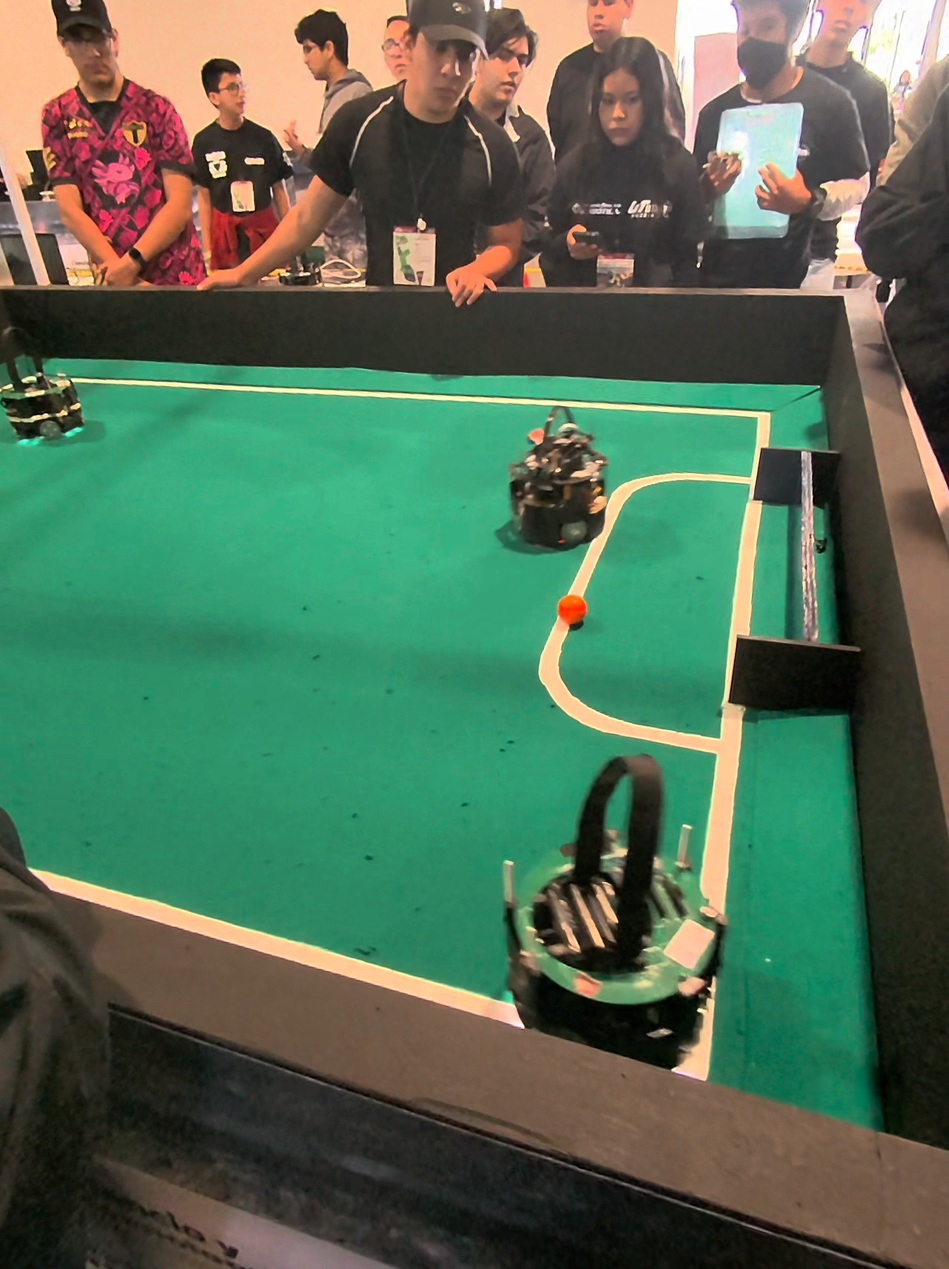Robot: (514, 748, 731, 1074), (0, 296, 101, 465), (503, 401, 615, 553)
pelota: (558, 599, 587, 626)
